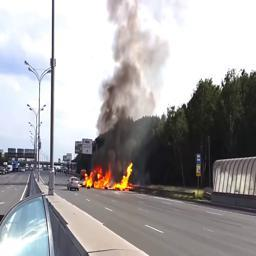fire: (83, 163, 134, 191)
